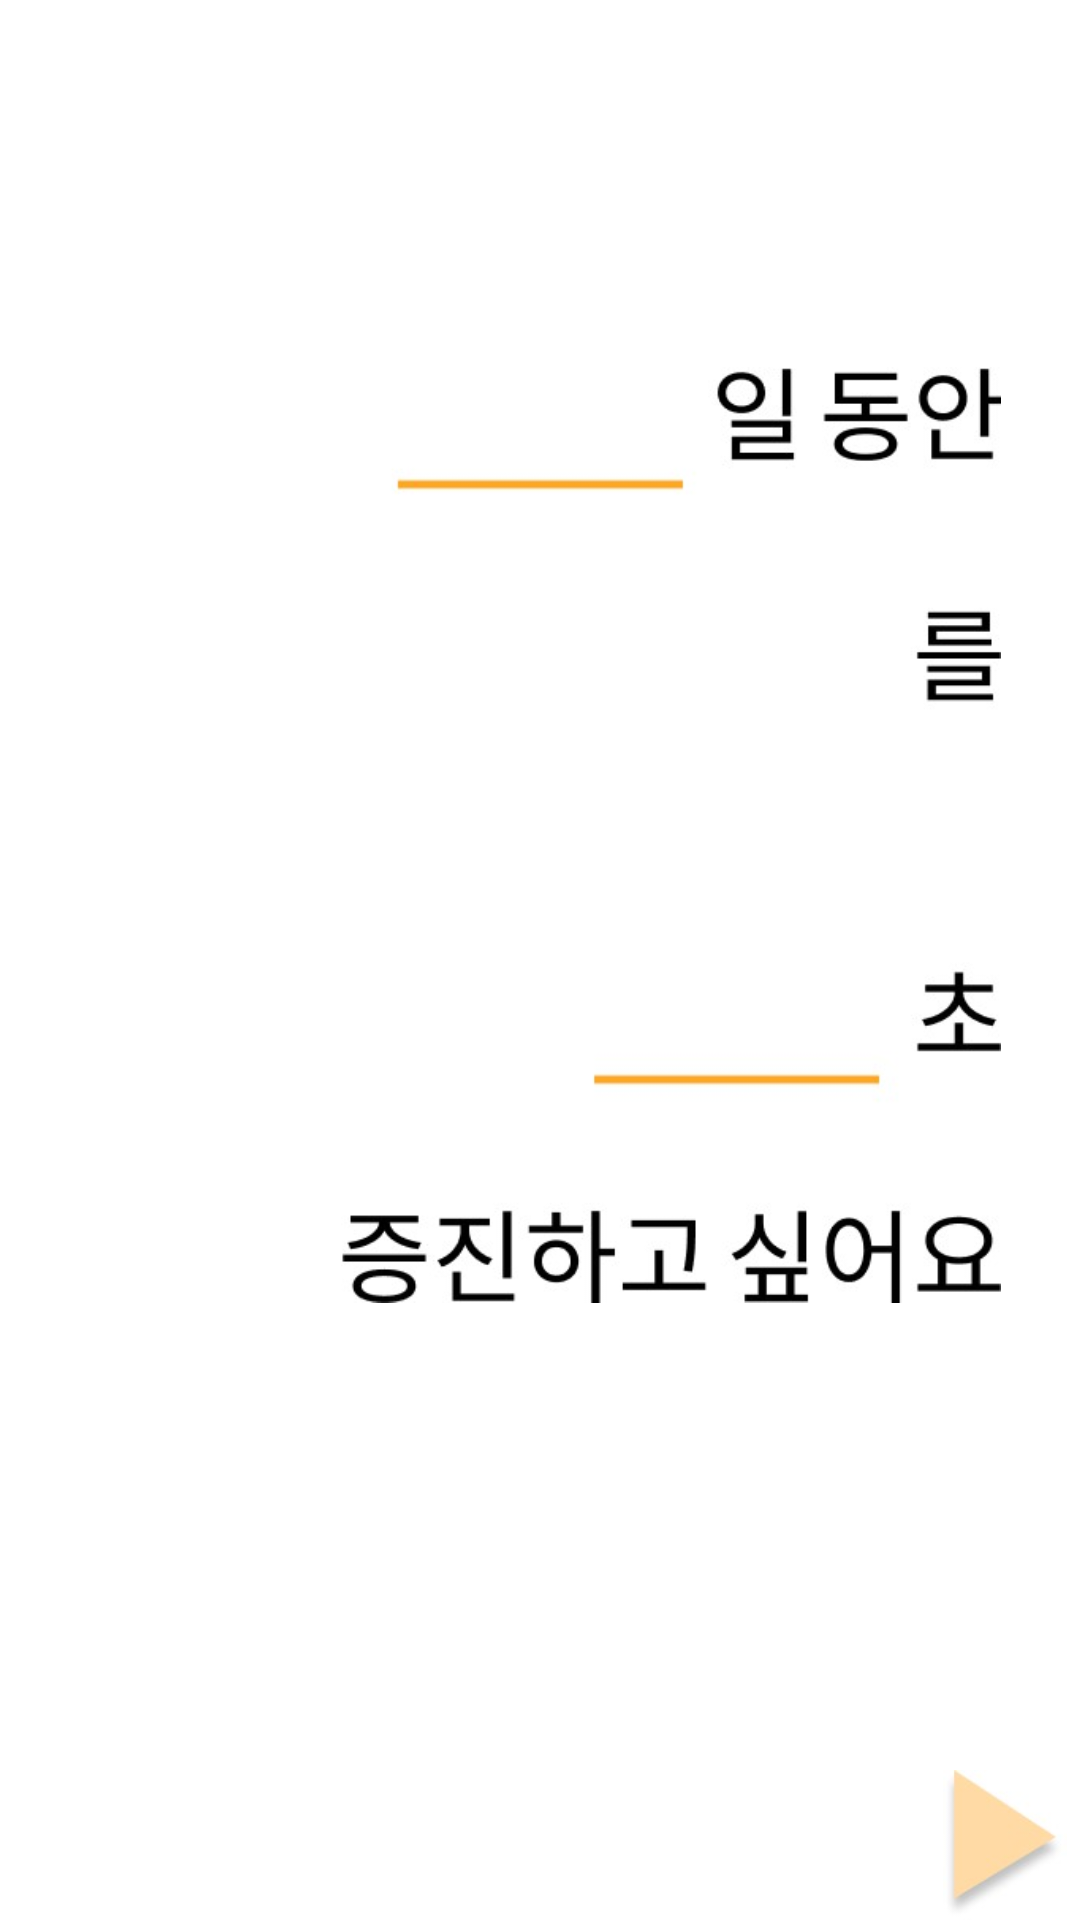

Locate icon controls on the screen. Image size 1080x1920, boxes as (x1, y1, x2, y2).
move: (952, 1770, 1056, 1906)
